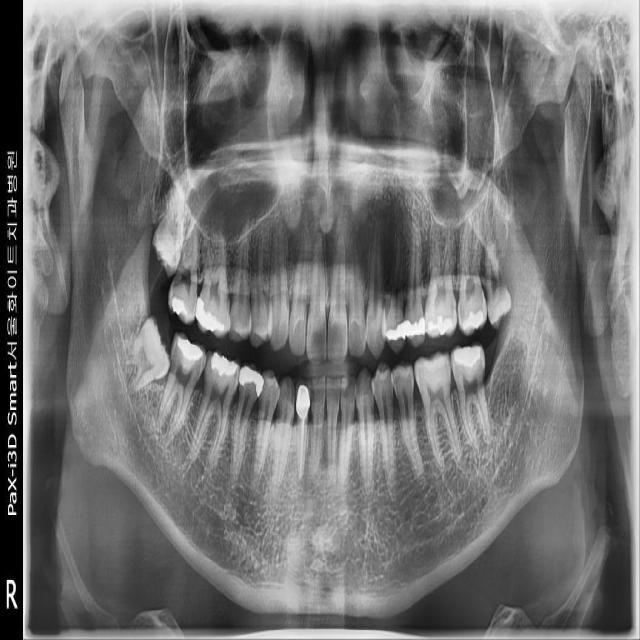3M ESPE Implant: (147, 177, 193, 278)
52: (185, 296, 227, 340), (233, 363, 270, 398), (205, 350, 240, 382), (172, 335, 207, 365), (384, 320, 413, 347), (425, 313, 454, 337), (296, 379, 310, 419), (453, 347, 480, 367), (403, 316, 427, 337), (461, 310, 485, 331), (169, 294, 188, 319)
73: (296, 412, 308, 485), (600, 550, 610, 566)
BioHorizons Implant: (457, 216, 490, 336)
BioLife Implant: (483, 235, 513, 329)
Blue Sky Bio Implant: (447, 341, 500, 452)
Caries: (165, 193, 210, 326)
Implant: (152, 330, 210, 449)
Keystone Dental Implant: (115, 312, 177, 395)
